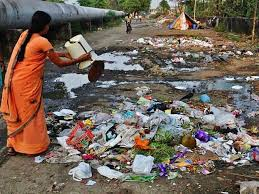garbage: (58, 86, 259, 183), (140, 34, 253, 73), (102, 50, 228, 67)
